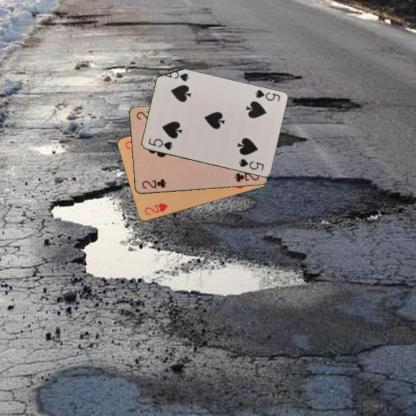2c: (139, 176, 168, 190)
2h: (142, 201, 168, 217)
5s: (252, 87, 281, 103), (146, 136, 174, 152)
